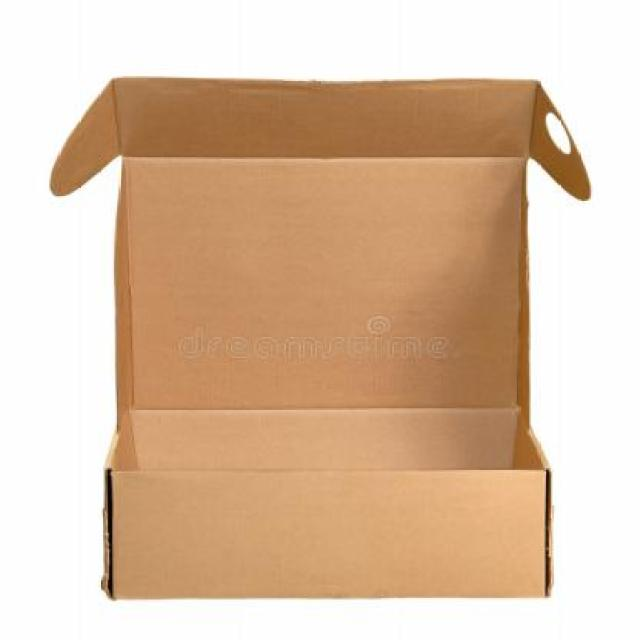box: (47, 66, 596, 600)
